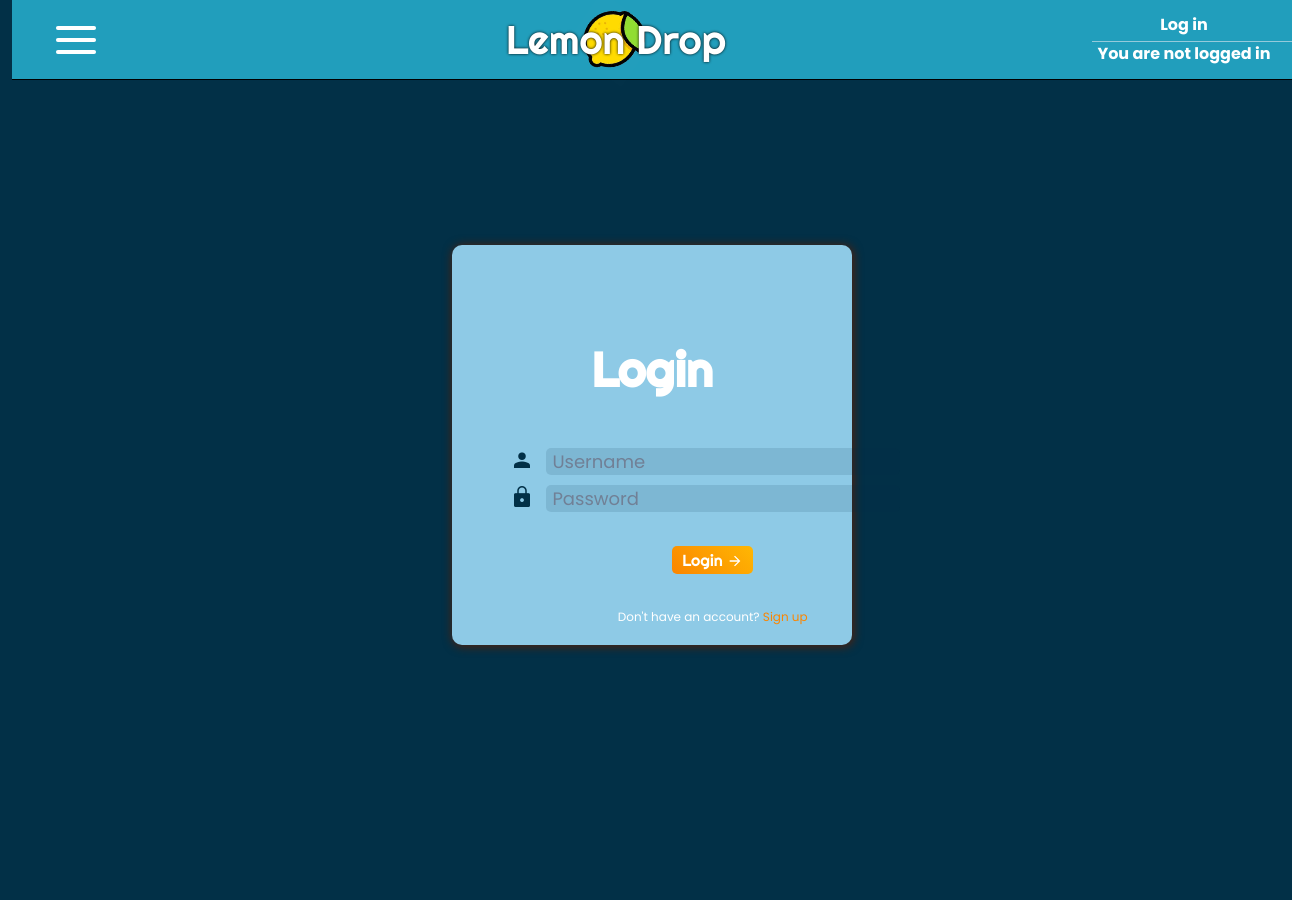
Test: clicking login with an invalid username and password gives a warning toast
Type "hello" into the field with placeholder "Username" at (723, 461), box left=546, top=448, right=900, bottom=474
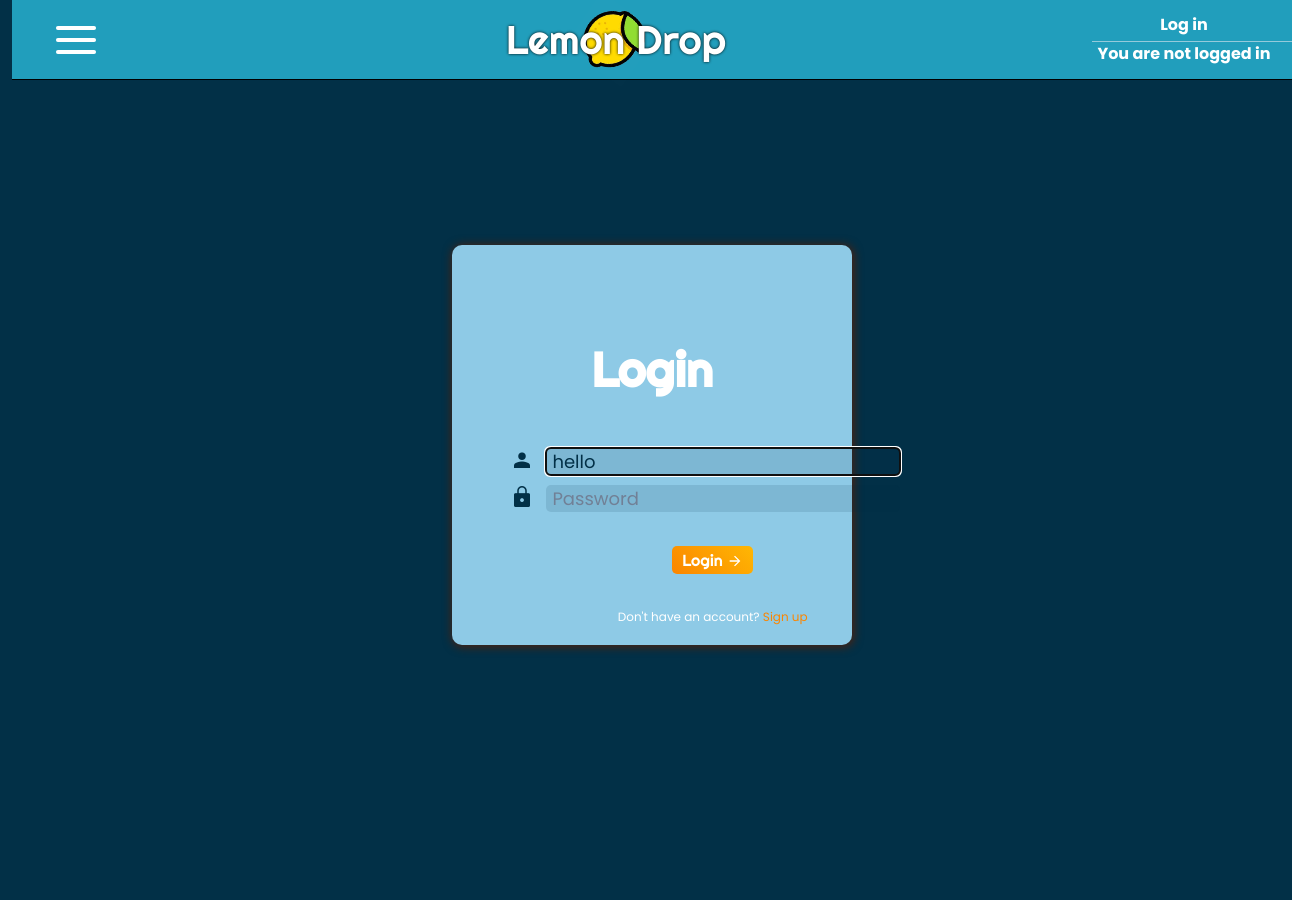
Type "hello" into the password field with placeholder "Password" at (723, 498), box left=546, top=484, right=900, bottom=512
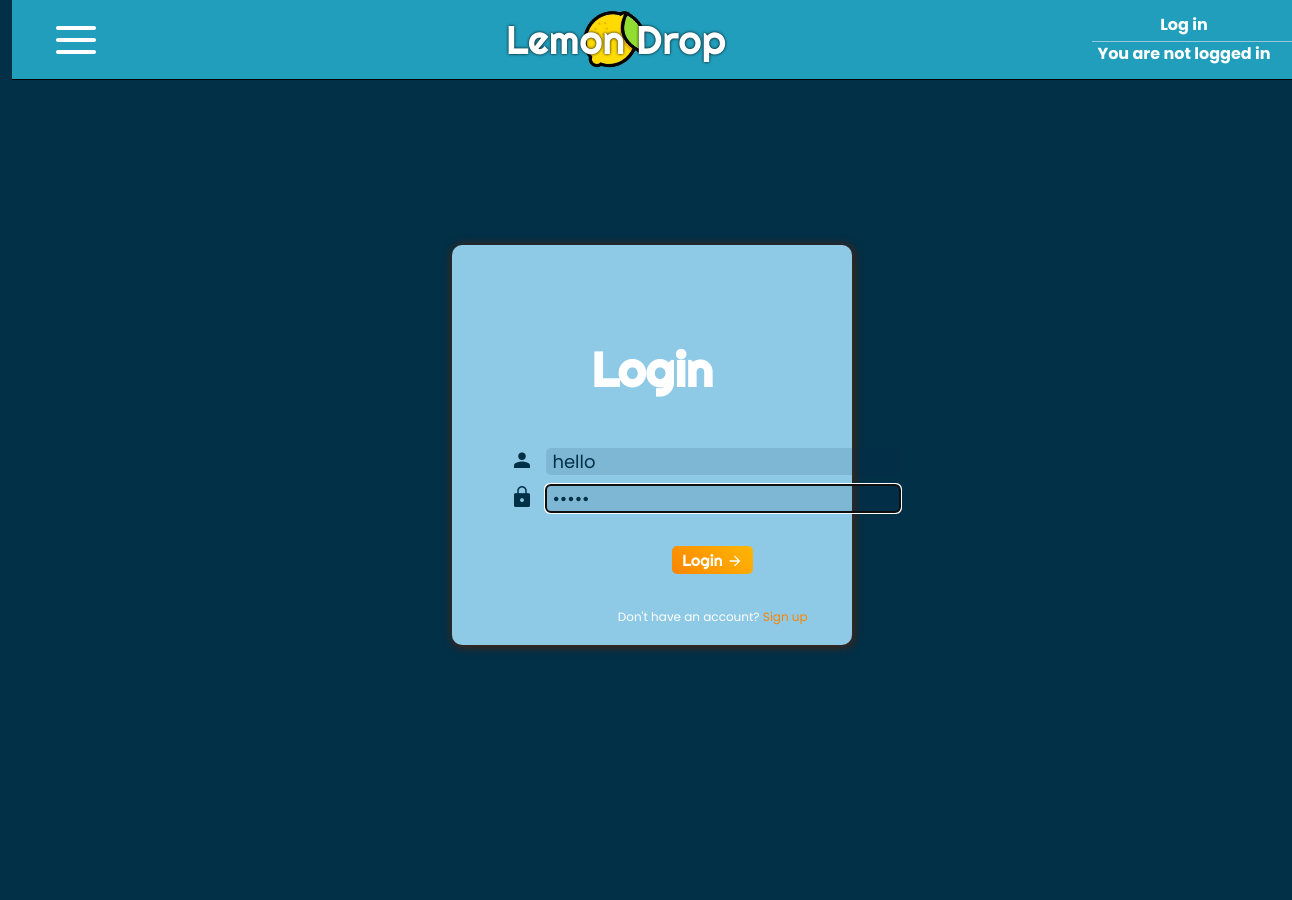
Click the button at (713, 560), box left=672, top=546, right=753, bottom=574
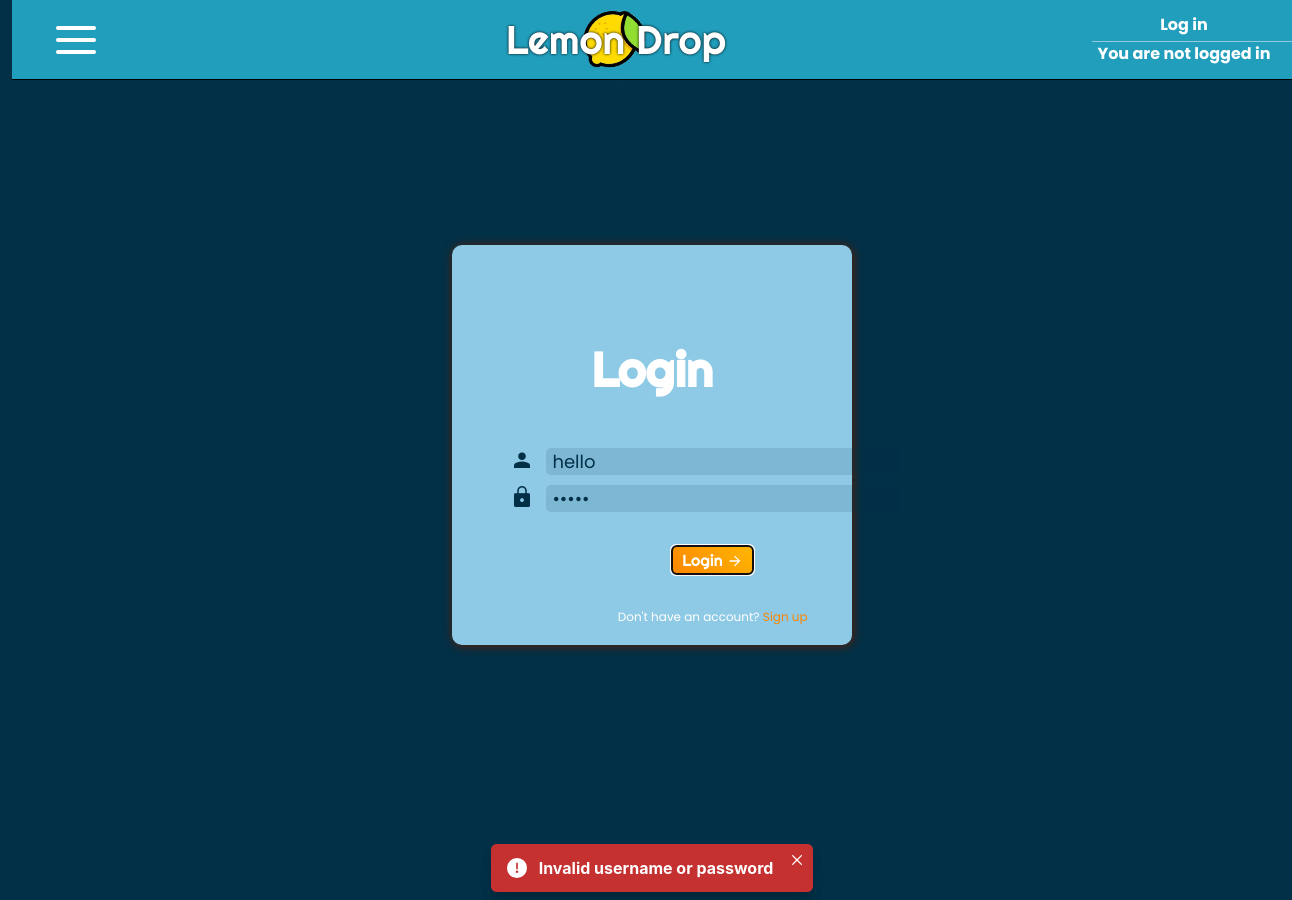
Expected: the 1st text "Invalid username or password" is shown, left=539, top=856, right=773, bottom=880
